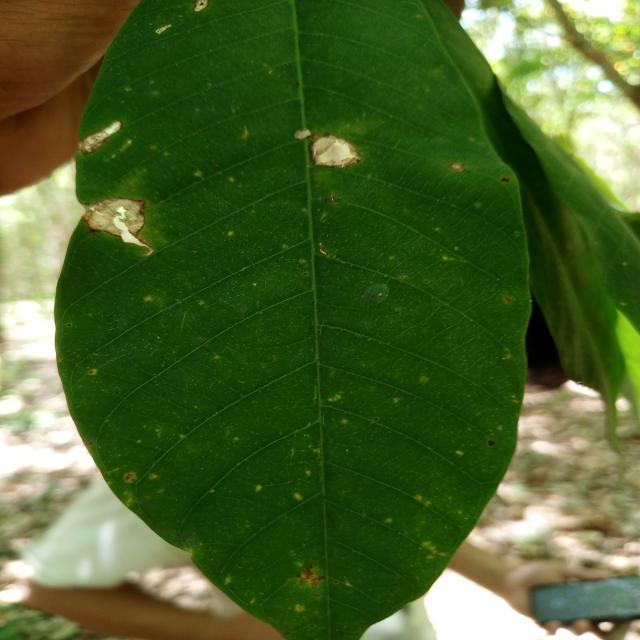Leaf-Blight: (82, 197, 146, 236), (78, 120, 122, 154)
